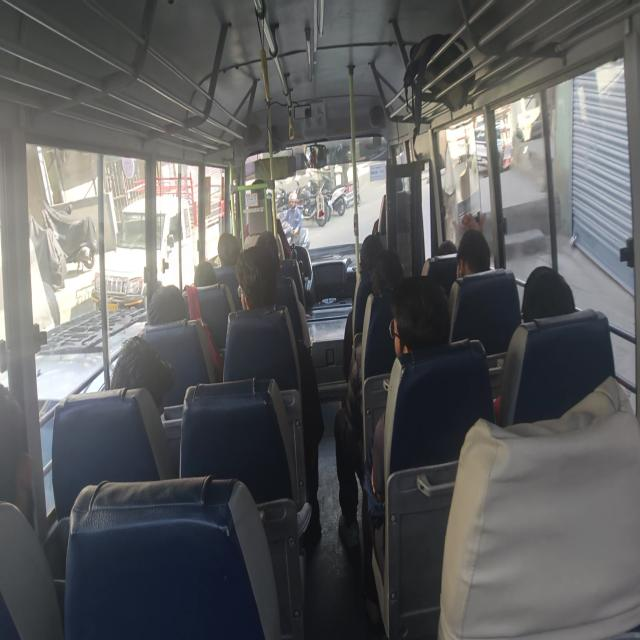person: (362, 274, 451, 625), (226, 239, 324, 543), (334, 247, 405, 548), (342, 233, 385, 379), (110, 335, 174, 417), (447, 228, 491, 338), (521, 265, 575, 322), (456, 228, 490, 278), (147, 284, 189, 324), (282, 190, 303, 241), (215, 232, 240, 268)
